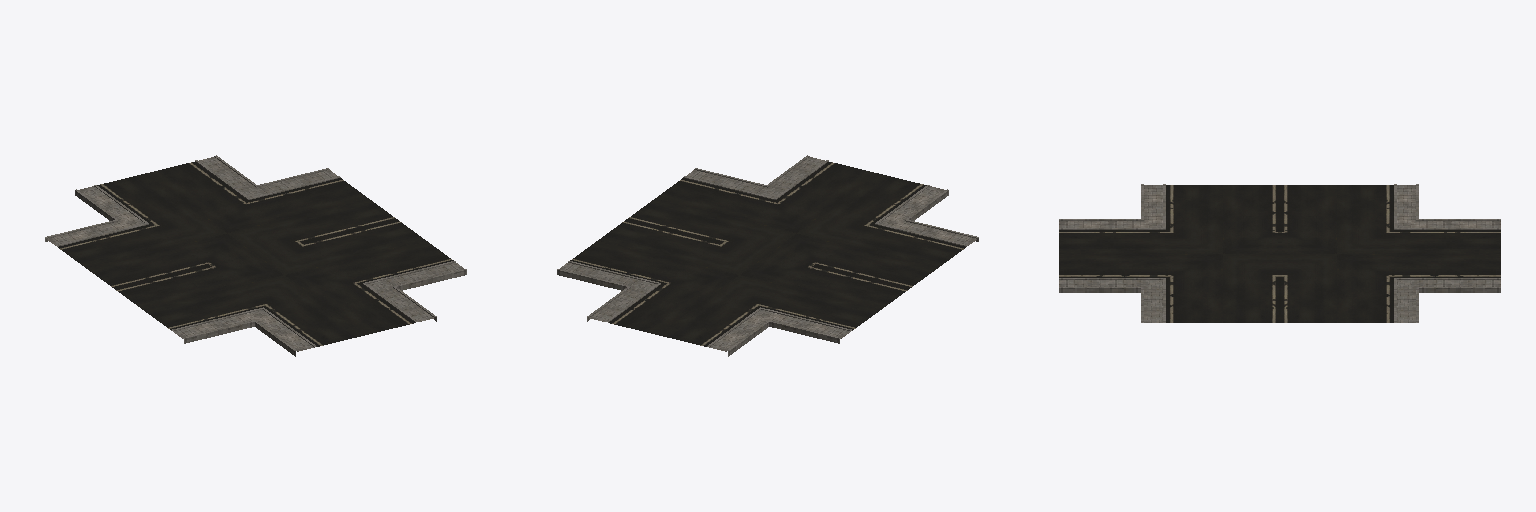
3 views of the same model, side by side, from view 1: azimuth 30°, elevation 25°; view 2: azimuth 150°, elevation 25°; view 3: azimuth 270°, elevation 25° (orthographic).
Parts seen in each view (by area): view 1: 7_Road-Cross-B-A; view 2: 7_Road-Cross-B-A; view 3: 7_Road-Cross-B-A.
Boxes of the visible parts, x1,y1,x2,y2 form: 7_Road-Cross-B-A: [45, 155, 466, 356]; 7_Road-Cross-B-A: [557, 155, 978, 356]; 7_Road-Cross-B-A: [1059, 184, 1500, 322].
Bounding box in the file's own units: 1.24 × 0.0219 × 1.67.
1 materials, 1 textured.